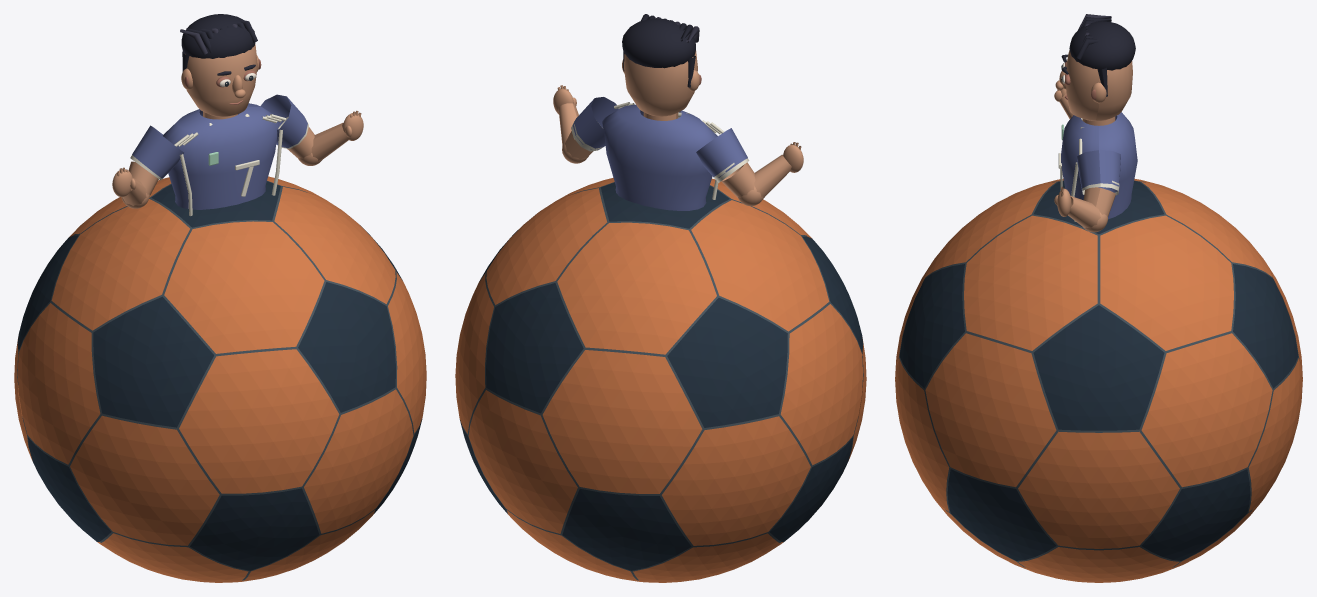
The model's file is football-players-CIAe9wtp.glb.
3 views of the same model, side by side, from view 1: azimuth 30°, elevation 25°; view 2: azimuth 150°, elevation 25°; view 3: azimuth 270°, elevation 25° (orthographic).
Visible parts, largest first — view 1: Obstacle curved leather panels, Athlete_surface, head_surface, rightArm_surface, leftArm_surface; view 2: Obstacle curved leather panels, Athlete_surface, head_surface, leftArm_surface, rightArm_surface; view 3: Obstacle curved leather panels, head_surface, Athlete_surface, rightArm_surface.
Boxes of the visible parts, x1,y1,x2,y2 form: Obstacle curved leather panels: [14, 176, 426, 582]; Athlete_surface: [162, 103, 285, 216]; head_surface: [180, 14, 261, 116]; rightArm_surface: [260, 94, 363, 165]; leftArm_surface: [112, 125, 183, 208]; Obstacle curved leather panels: [455, 178, 866, 582]; Athlete_surface: [602, 102, 724, 210]; head_surface: [622, 14, 701, 116]; leftArm_surface: [696, 128, 803, 206]; rightArm_surface: [553, 85, 618, 163]; Obstacle curved leather panels: [895, 178, 1302, 582]; head_surface: [1055, 14, 1135, 121]; Athlete_surface: [1058, 112, 1137, 221]; rightArm_surface: [1054, 150, 1120, 232].
Bounding box in the file's own units: 2 × 2.91 × 2.
